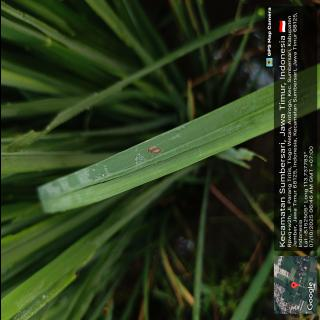Blast: (146, 142, 162, 156)
